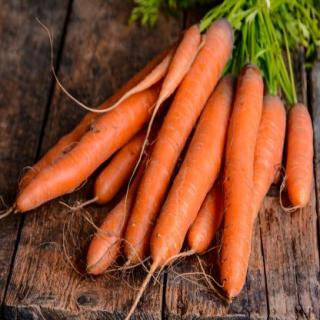Wortel: (15, 16, 224, 273), (150, 68, 239, 272), (223, 63, 264, 302), (251, 95, 286, 228), (289, 104, 313, 210)
